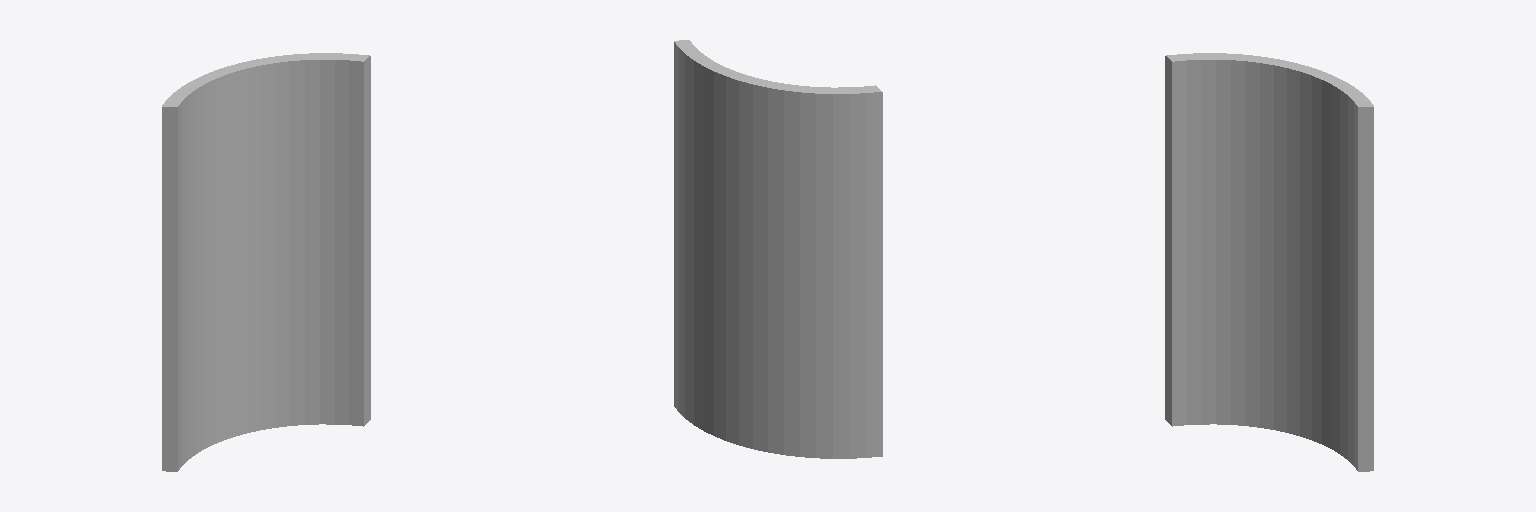
The model's file is pod_door.obj.
3 views of the same model, side by side, from view 1: azimuth 30°, elevation 25°; view 2: azimuth 150°, elevation 25°; view 3: azimuth 330°, elevation 25° (orthographic).
Visible parts, largest first — view 1: Door; view 2: Door; view 3: Door.
Boxes of the visible parts, x1,y1,x2,y2 form: Door: [162, 53, 370, 471]; Door: [674, 40, 882, 458]; Door: [1165, 53, 1373, 471].
Bounding box in the file's own units: 2.83 × 4.72 × 0.6988.